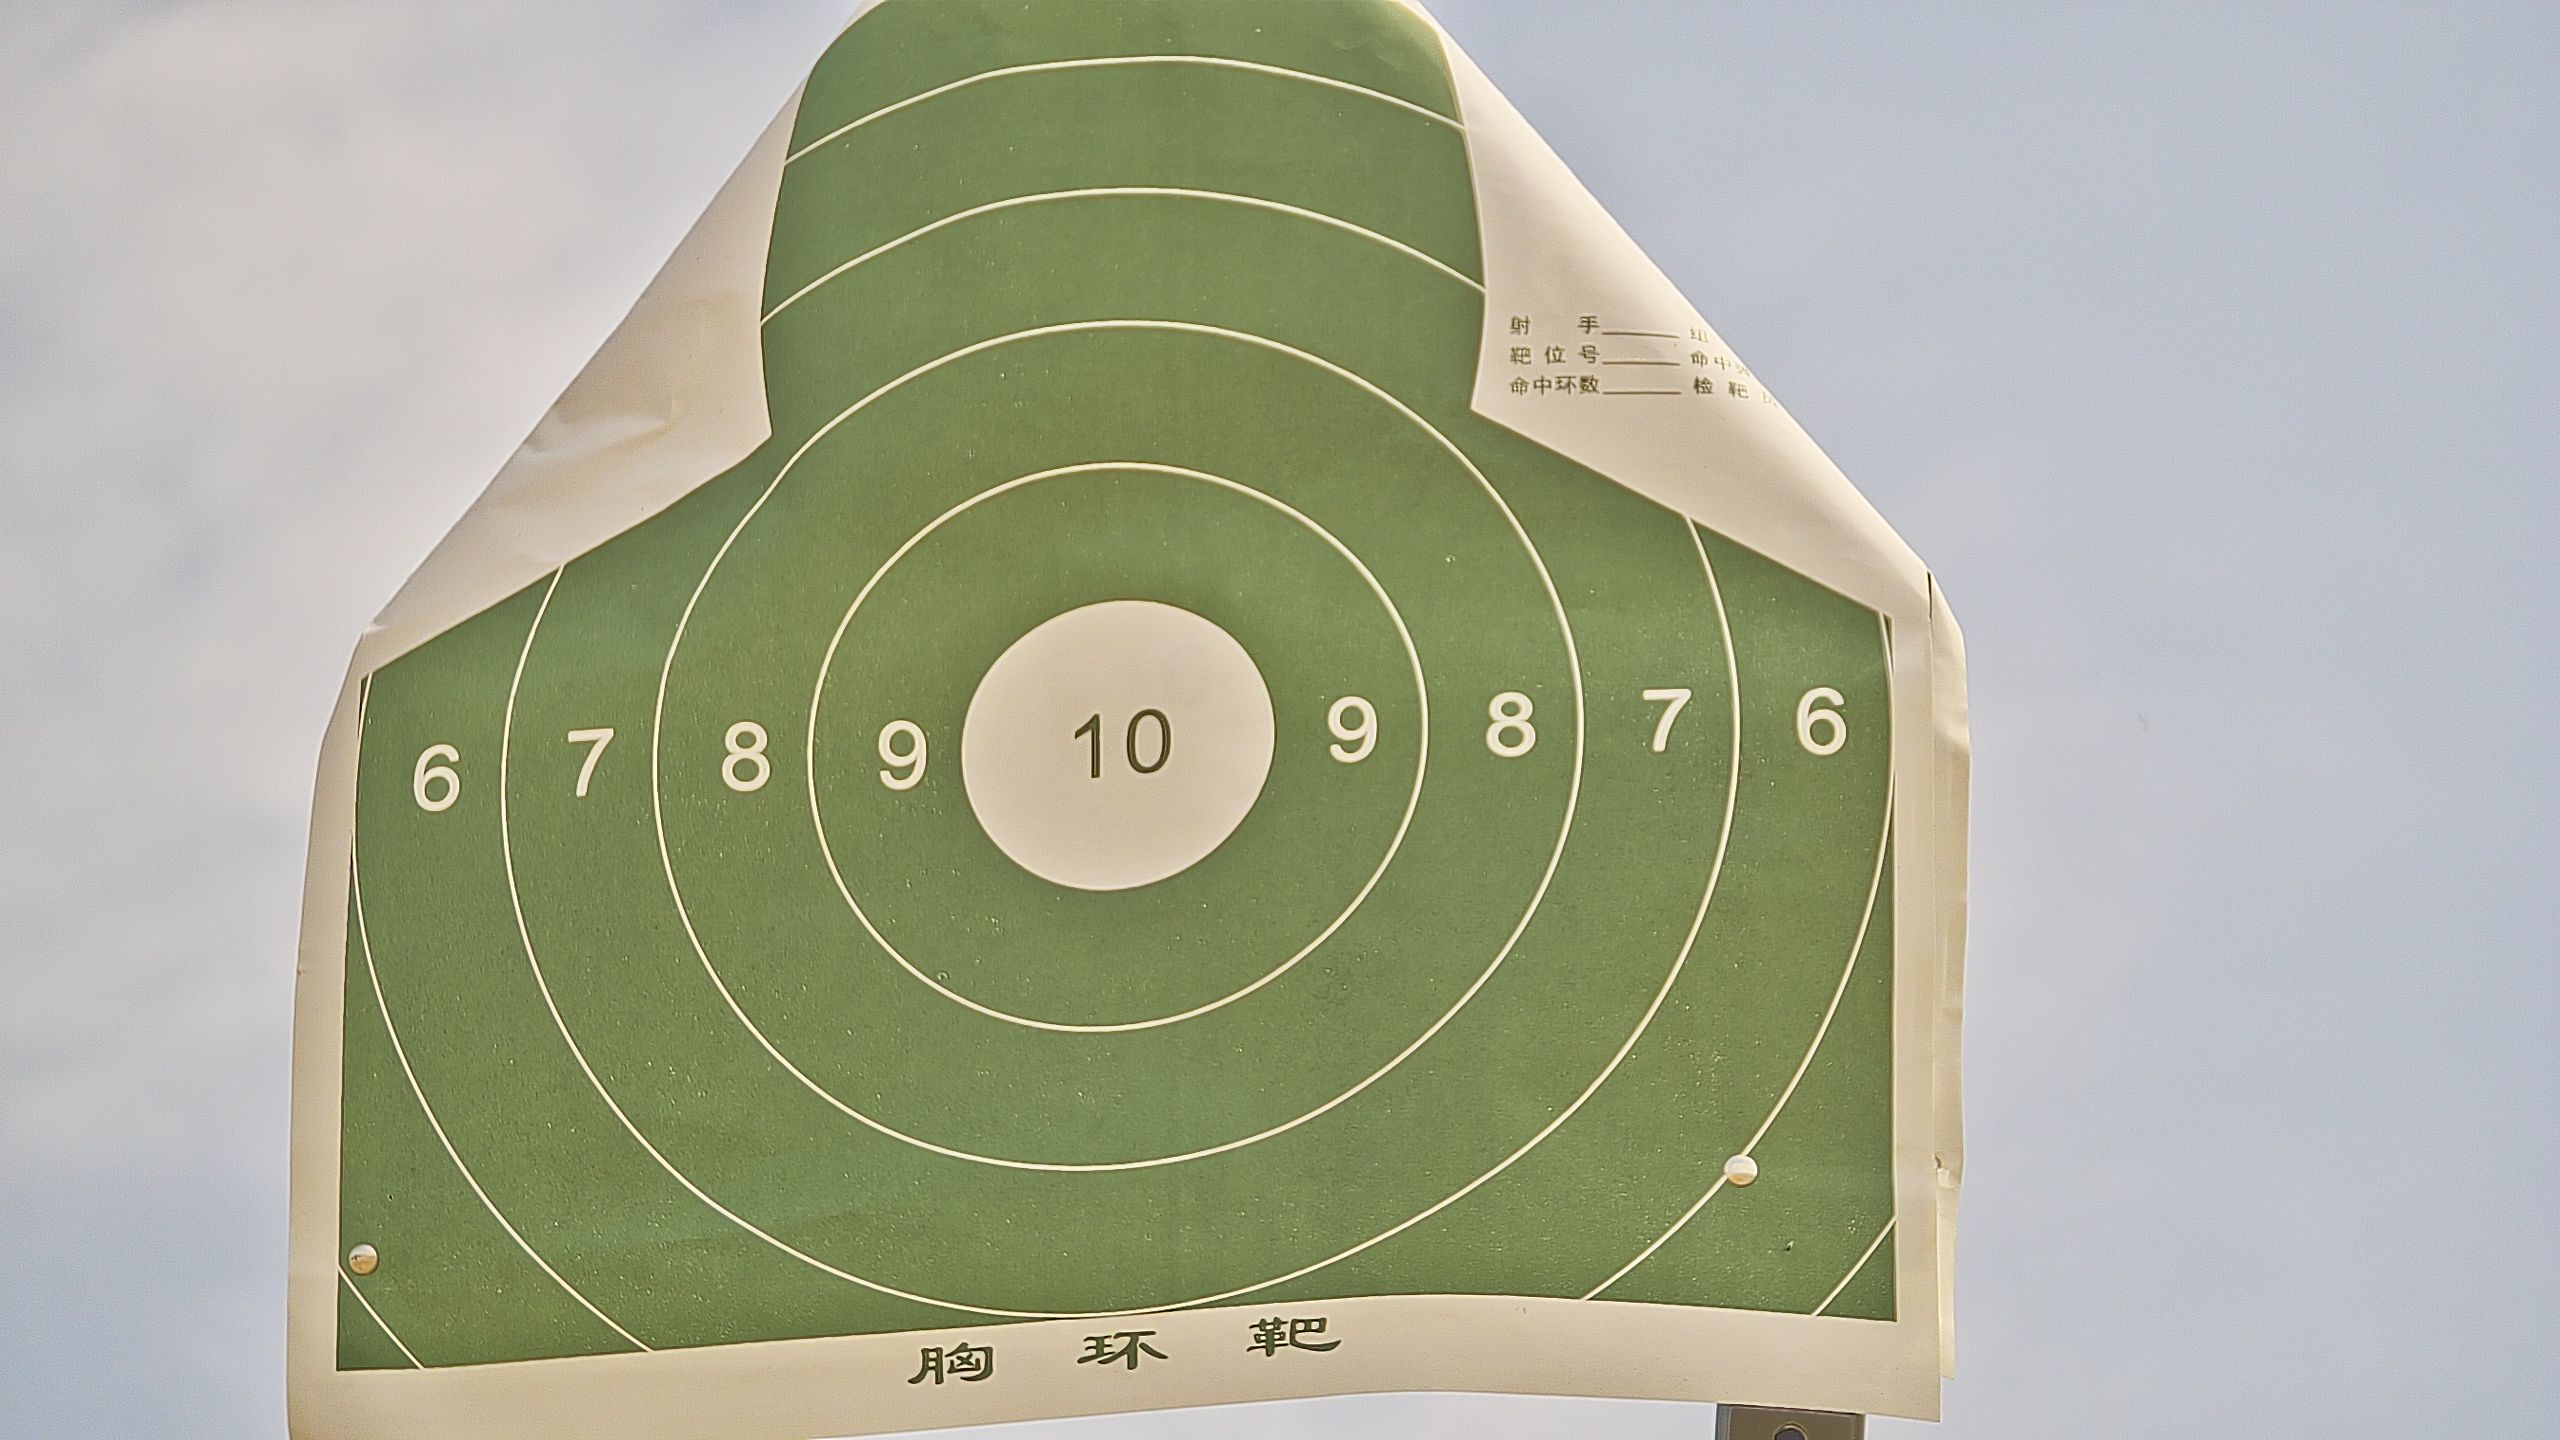target: (334, 11, 1901, 1371)
ten: (955, 598, 1276, 890)
